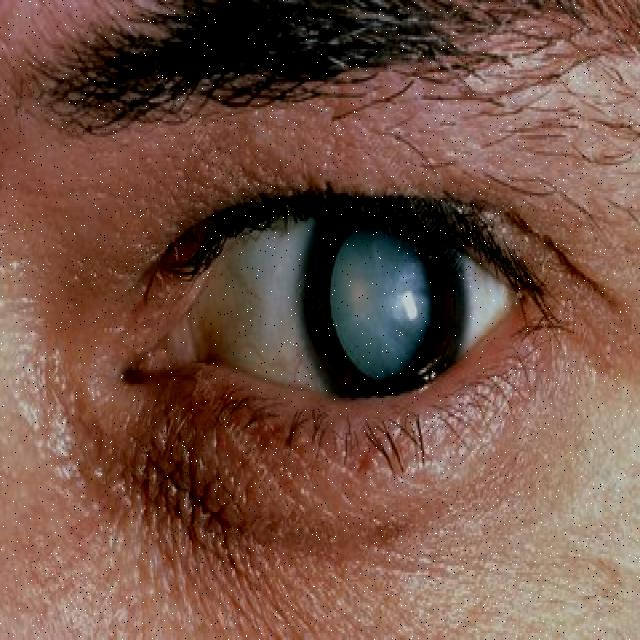Cataract: (219, 115, 524, 473)
